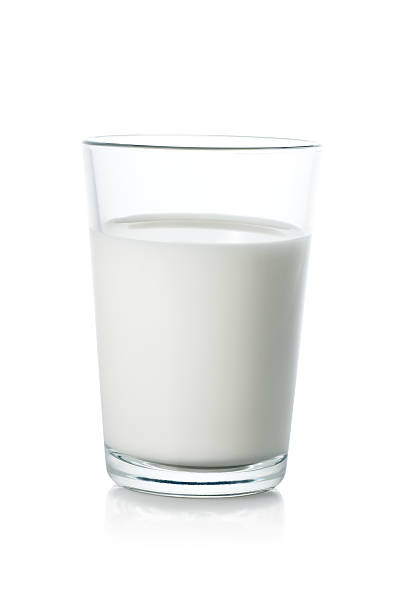glass of milk: (74, 119, 323, 518)
